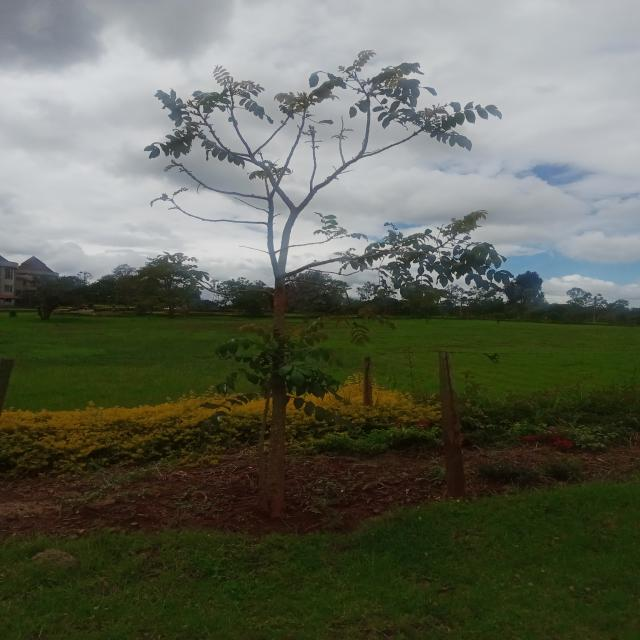Polyscias Kikuyensis: (149, 54, 515, 507)
